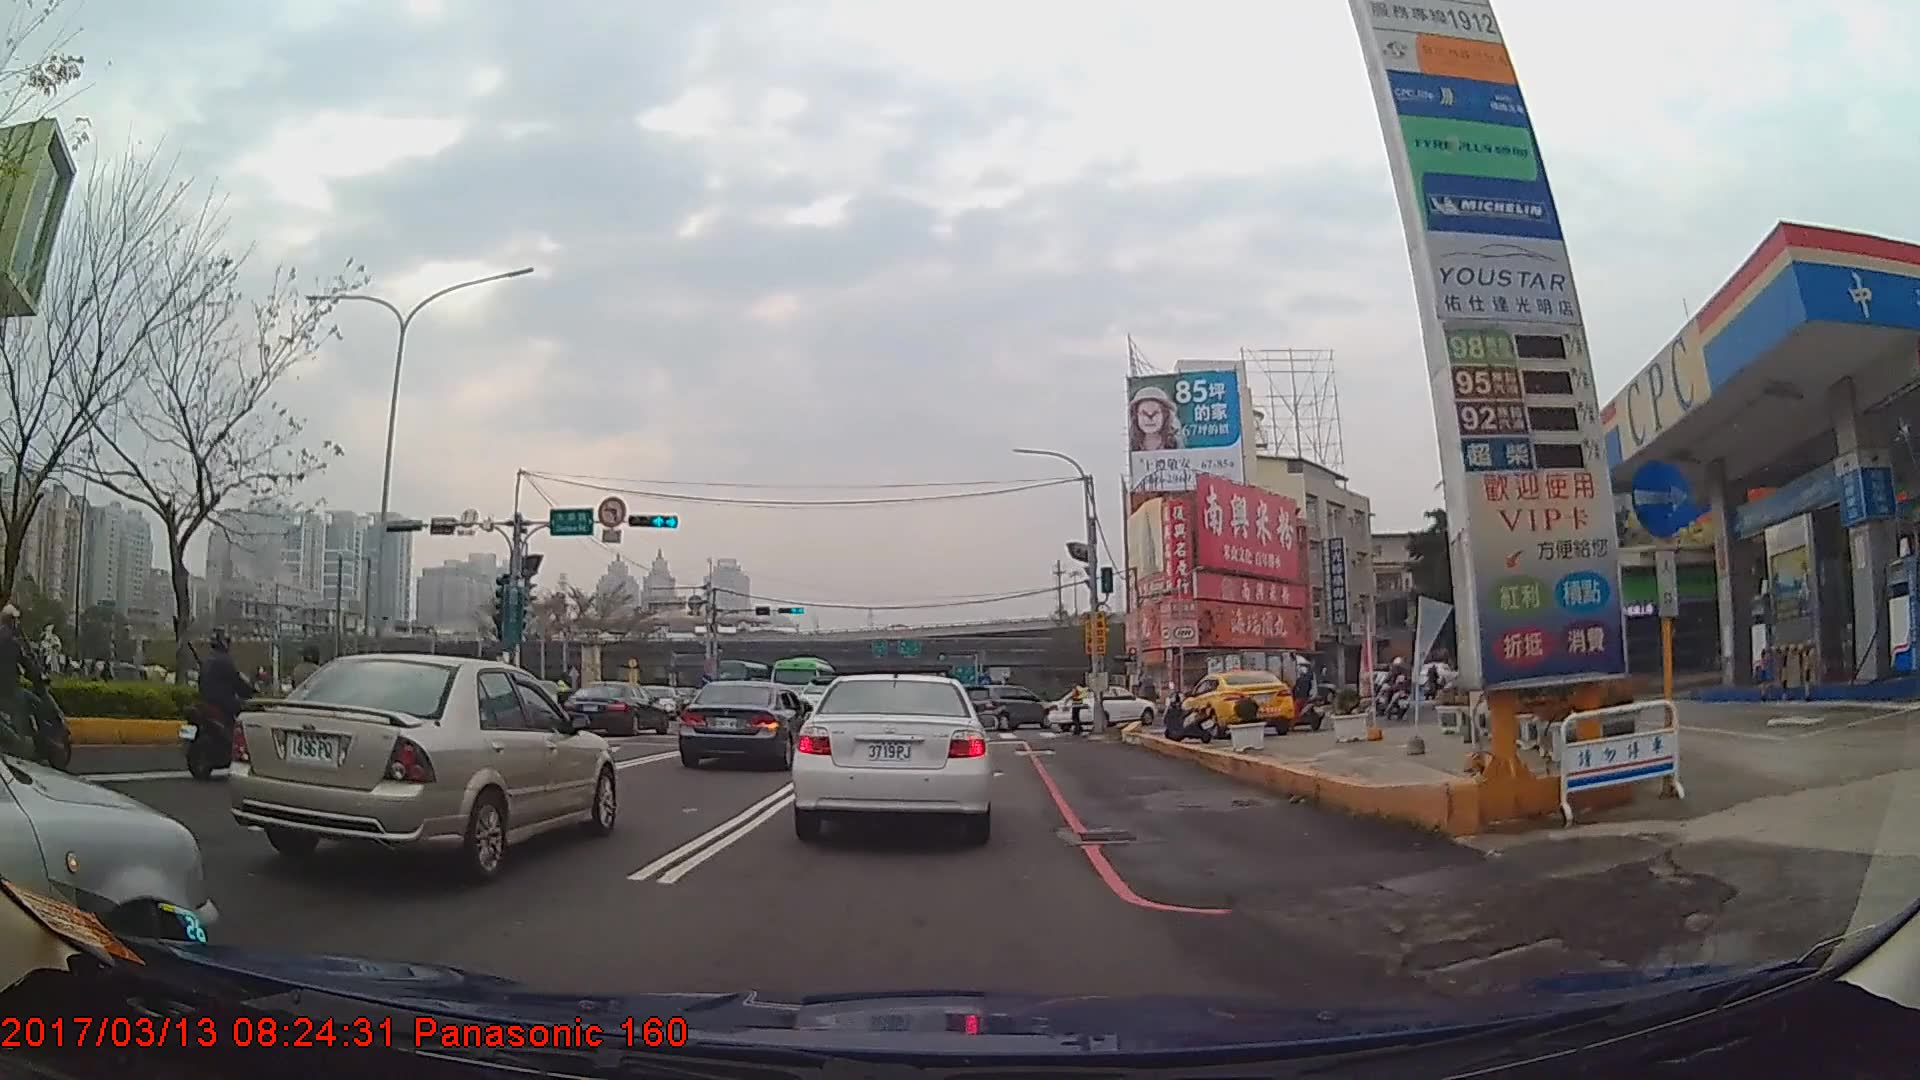pedestrian: (1062, 678, 1083, 736)
rider: (178, 627, 274, 781), (3, 605, 74, 778), (292, 644, 363, 762), (1286, 666, 1324, 731), (1380, 658, 1410, 722), (1373, 664, 1394, 716)
vehicle: (226, 650, 617, 883), (794, 667, 992, 841), (678, 679, 813, 769), (1178, 667, 1297, 734), (1202, 648, 1319, 716), (562, 680, 669, 734), (1049, 681, 1157, 729), (962, 683, 1054, 729), (767, 655, 838, 712)
